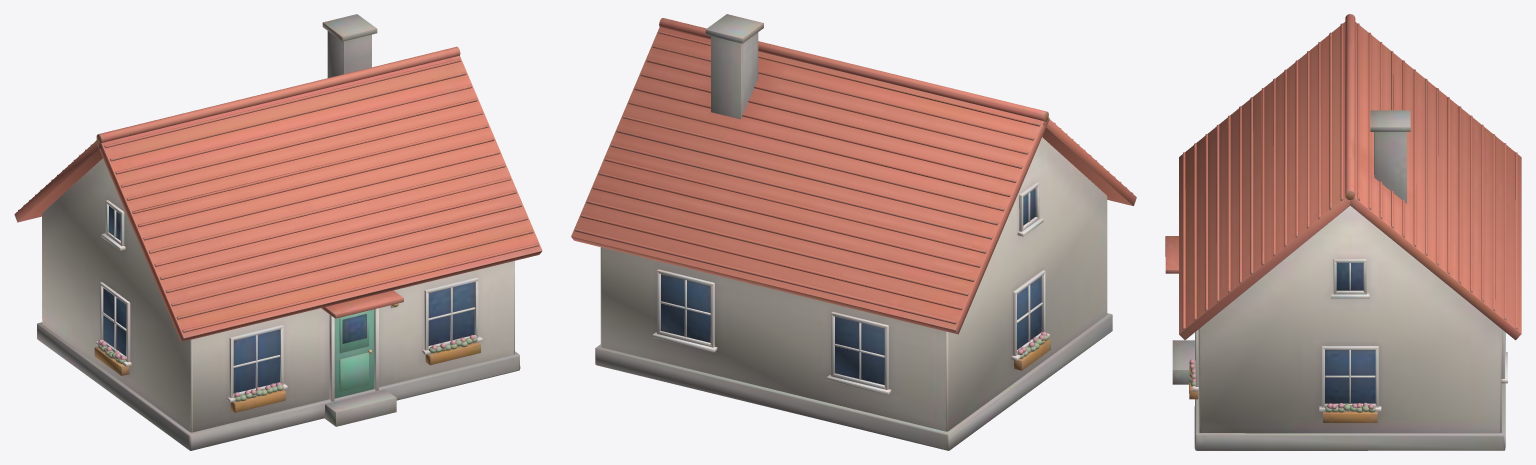
File: cottage-house.glb
3 renders of one model, left to right at view 1: azimuth 30°, elevation 25°; view 2: azimuth 150°, elevation 25°; view 3: azimuth 270°, elevation 25°, orthographic. The views are drawn at different scales.
Visible parts, largest first — view 1: cottage-house_body; view 2: cottage-house_body; view 3: cottage-house_body.
Part boxes in pixels (left/top/right/bottom): cottage-house_body: left=14, top=14, right=542, bottom=450; cottage-house_body: left=571, top=14, right=1136, bottom=450; cottage-house_body: left=1165, top=14, right=1521, bottom=450.
Bounding box in the file's own units: 8.83 × 6.89 × 7.51.
1 material, 1 textured.
